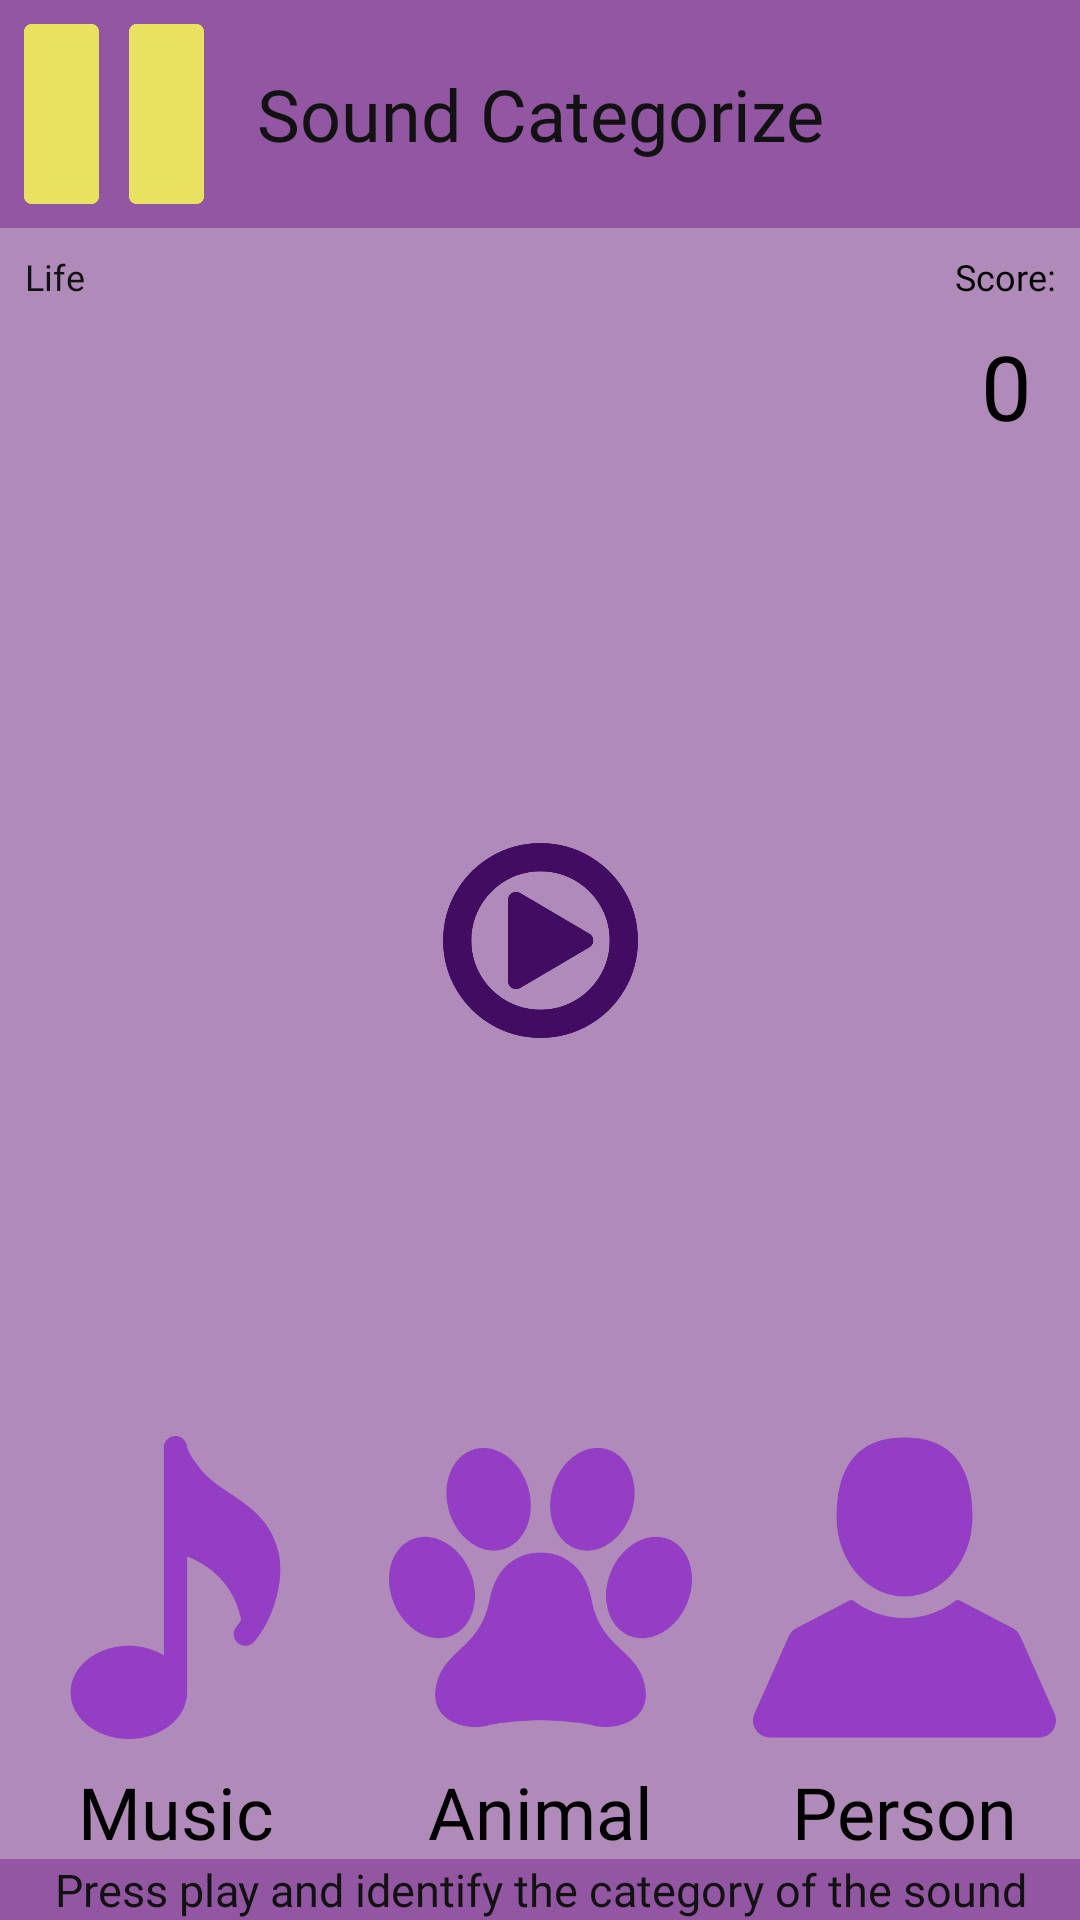

Icons on this 1080w x 1920h Android screen, each with the point to tap as [x,y]:
instru: [175,1587]
pause: [114,114]
paw: [540,1587]
play: [540,940]
